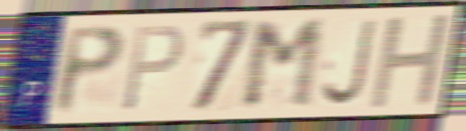7: (190, 17, 255, 116)
H: (366, 11, 454, 113)
J: (318, 16, 378, 110)
M: (240, 16, 327, 113)
P: (53, 22, 128, 117), (119, 22, 187, 115)
